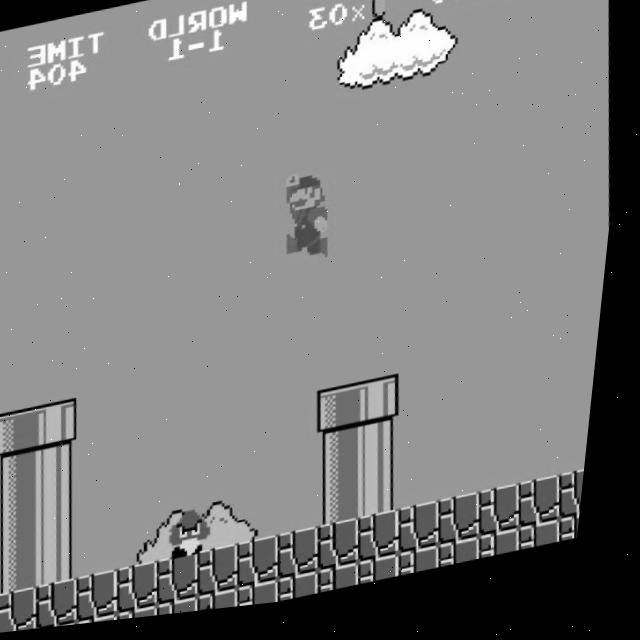0- big_mario: (284, 170, 345, 273)
14- pipe: (3, 542, 54, 596), (363, 428, 413, 482), (365, 473, 415, 527), (323, 436, 373, 490), (324, 481, 374, 535), (43, 489, 93, 543), (43, 534, 93, 588), (2, 497, 52, 551), (42, 445, 91, 498), (2, 452, 51, 505)
15- pipe_head: (40, 399, 91, 453), (0, 407, 50, 461), (363, 383, 412, 436), (323, 391, 372, 444)
17- undestructible_block: (325, 526, 376, 580), (84, 572, 135, 626), (526, 488, 576, 542), (486, 495, 536, 549), (446, 503, 496, 557), (406, 511, 456, 565), (365, 518, 415, 572), (285, 534, 335, 588), (245, 541, 295, 595), (205, 549, 255, 603), (165, 557, 215, 611), (125, 564, 175, 618), (45, 579, 95, 632), (5, 587, 54, 635), (566, 481, 596, 533), (288, 579, 334, 610), (449, 548, 494, 579), (409, 555, 454, 586), (369, 563, 414, 594), (329, 571, 374, 602), (529, 533, 575, 563), (489, 541, 534, 571), (249, 586, 294, 614), (209, 593, 253, 617), (169, 602, 213, 621), (569, 527, 592, 556), (129, 609, 173, 624), (0, 594, 14, 638), (90, 617, 133, 628)
8- goomba: (177, 509, 229, 566)
